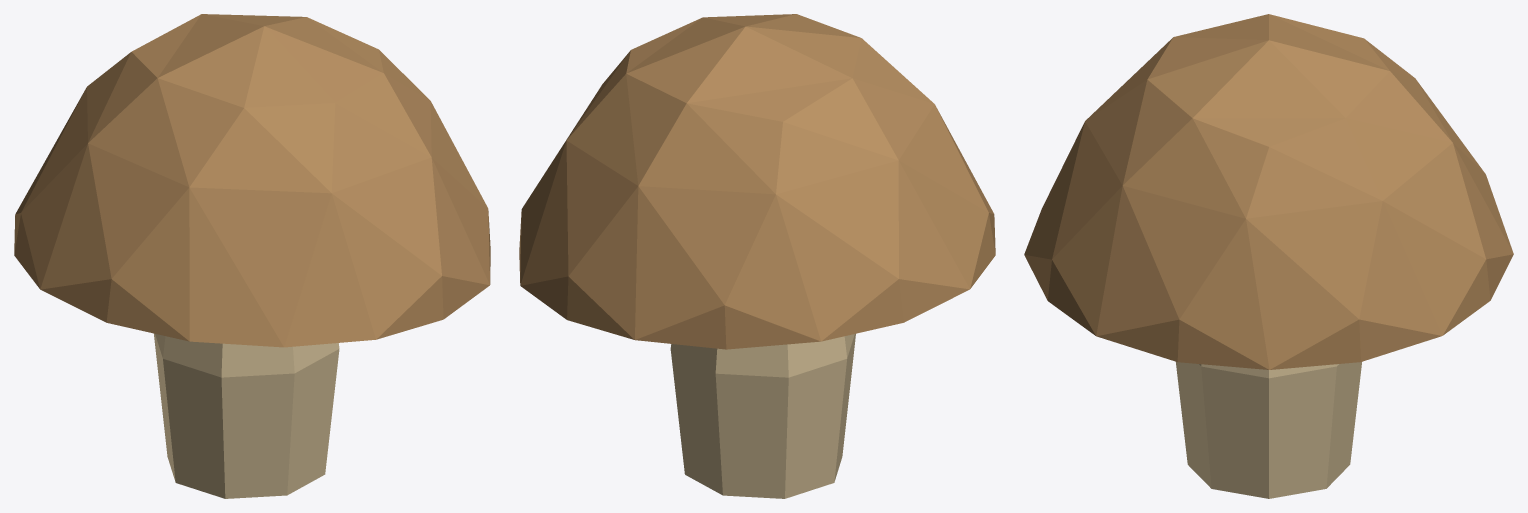
Rendered from Mushroom_13.fbx.
3 views of the same model, side by side, from view 1: azimuth 30°, elevation 25°; view 2: azimuth 150°, elevation 25°; view 3: azimuth 270°, elevation 25° (orthographic).
Parts seen in each view (by area): view 1: Mushroom_13; view 2: Mushroom_13; view 3: Mushroom_13.
Boxes of the visible parts, x1,y1,x2,y2 form: Mushroom_13: [14, 14, 490, 498]; Mushroom_13: [519, 14, 995, 498]; Mushroom_13: [1024, 14, 1513, 498].
Bounding box in the file's own units: 14.33 × 14.01 × 14.36.
